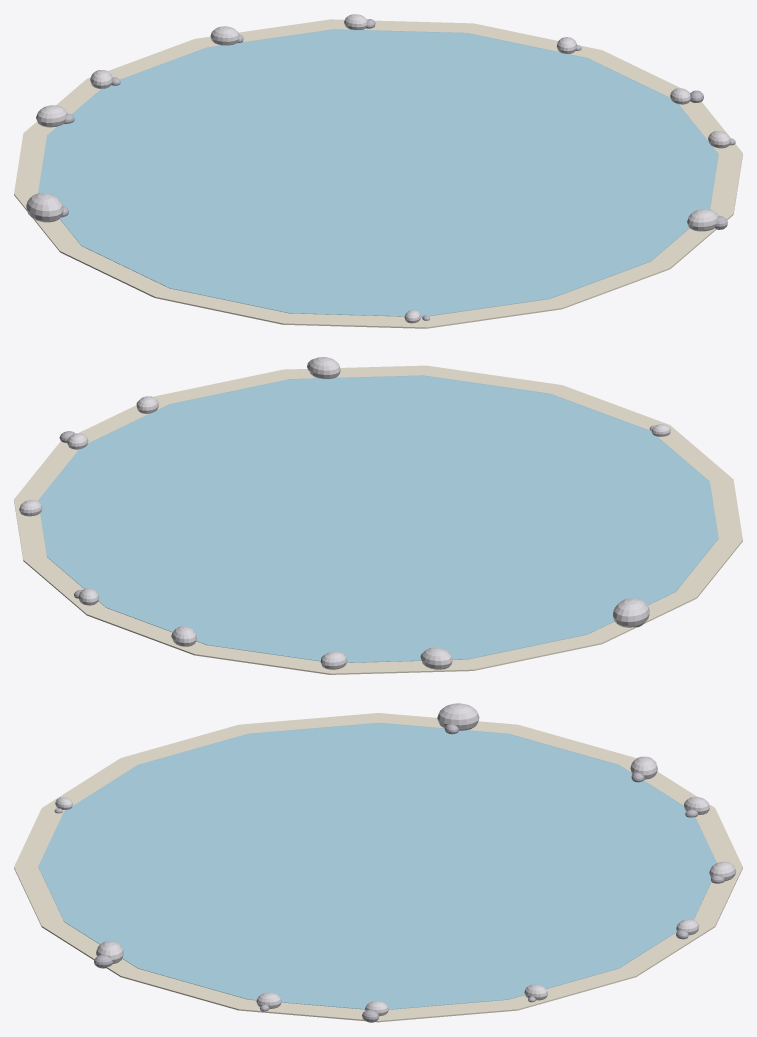
The model's file is Lake.glb.
The picture shows the model from 3 angles, top to bottom: view 1: azimuth 30°, elevation 25°; view 2: azimuth 150°, elevation 25°; view 3: azimuth 270°, elevation 25°; orthographic projection.
Parts seen in each view (by area): view 1: Lake_0, Lake_3, Lake_2, Lake_1; view 2: Lake_0, Lake_3, Lake_2; view 3: Lake_0, Lake_3, Lake_2, Lake_1.
Boxes of the visible parts, bbox=[...] form: Lake_0: bbox=[38, 29, 718, 317]; Lake_3: bbox=[14, 19, 742, 328]; Lake_2: bbox=[26, 14, 730, 323]; Lake_1: bbox=[61, 19, 735, 320]; Lake_0: bbox=[38, 375, 718, 662]; Lake_3: bbox=[14, 365, 742, 674]; Lake_2: bbox=[19, 357, 670, 669]; Lake_0: bbox=[38, 722, 716, 1009]; Lake_3: bbox=[14, 713, 742, 1022]; Lake_2: bbox=[55, 703, 736, 1016]; Lake_1: bbox=[54, 724, 724, 1022].
Bounding box in the file's own units: 301 × 11.64 × 300.
